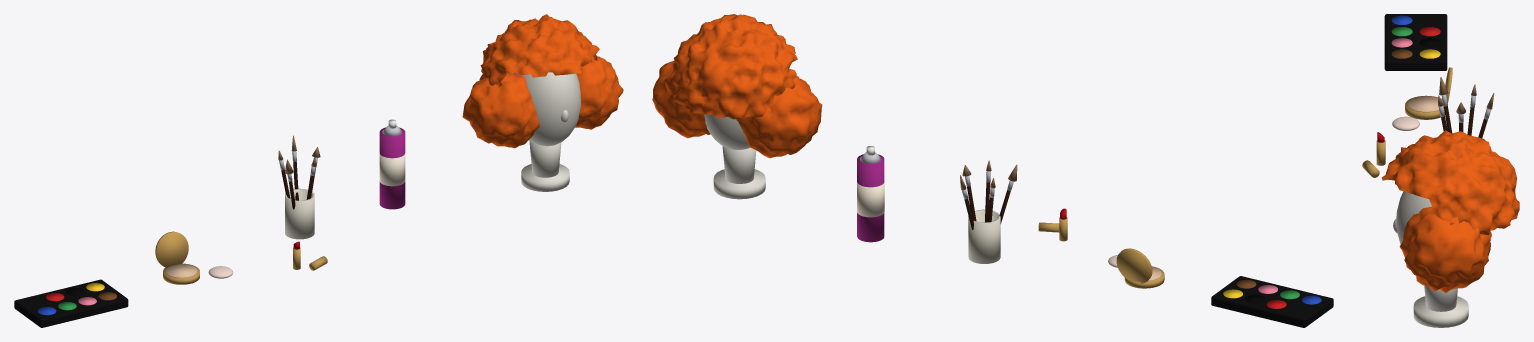
File: vanity-clutter.glb
3 views of the same model, side by side, from view 1: azimuth 30°, elevation 25°; view 2: azimuth 150°, elevation 25°; view 3: azimuth 270°, elevation 25° (orthographic). The views are drawn at different scales.
Visible parts, largest first — view 1: Icokugel, Icokugel.001, Kugel.001, Würfel, Icokugel.002, Zylinder.020, Zylinder.031, Zylinder.018, Kegel.006, Zylinder.037, Zylinder.033; view 2: Icokugel, Icokugel.001, Würfel, Icokugel.002, Zylinder.020, Zylinder.031, Kegel.006, Kugel.001, Zylinder.037, Zylinder.018, Zylinder.033; view 3: Icokugel, Icokugel.002, Würfel, Zylinder.037, Kugel.001, Kegel.006, Zylinder.017, Zylinder.016, Kugel, Zylinder.034, Zylinder.036, Zylinder.006 (+9 smaller).
Boxes of the visible parts, <box> form: Icokugel: <box>479,14,599,87</box>; Icokugel.001: <box>462,72,539,148</box>; Kugel.001: <box>514,72,580,146</box>; Würfel: <box>14,279,128,327</box>; Icokugel.002: <box>575,56,623,129</box>; Zylinder.020: <box>285,188,314,239</box>; Zylinder.031: <box>379,127,405,209</box>; Zylinder.018: <box>155,231,188,267</box>; Kegel.006: <box>529,141,561,177</box>; Zylinder.037: <box>521,164,569,191</box>; Zylinder.033: <box>379,153,405,186</box>; Icokugel: <box>664,14,797,119</box>; Icokugel.001: <box>736,75,822,158</box>; Würfel: <box>1211,276,1333,327</box>; Icokugel.002: <box>652,60,710,138</box>; Zylinder.020: <box>968,209,1000,263</box>; Zylinder.031: <box>857,154,884,242</box>; Kegel.006: <box>722,146,756,183</box>; Kugel.001: <box>704,114,750,150</box>; Zylinder.037: <box>713,169,765,199</box>; Zylinder.018: <box>1116,248,1152,283</box>; Zylinder.033: <box>857,181,884,217</box>; Icokugel: <box>1381,130,1519,234</box>; Icokugel.002: <box>1399,207,1491,292</box>; Würfel: <box>1384,14,1447,70</box>; Zylinder.037: <box>1413,296,1468,327</box>; Kugel.001: <box>1396,191,1431,244</box>; Kegel.006: <box>1424,285,1457,311</box>; Zylinder.017: <box>1408,96,1442,112</box>; Zylinder.016: <box>1405,95,1444,119</box>; Kugel: <box>1392,116,1419,130</box>; Zylinder.034: <box>1376,140,1385,165</box>; Zylinder.036: <box>1362,160,1379,177</box>; Zylinder.006: <box>1419,49,1440,58</box>.
Size of the model in its own units: 1.58 by 0.3996 by 0.3143.
